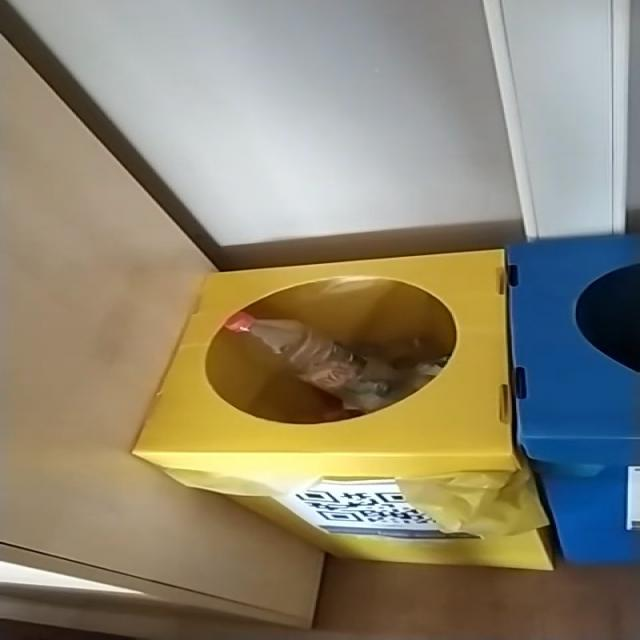plastic: (225, 313, 396, 413)
